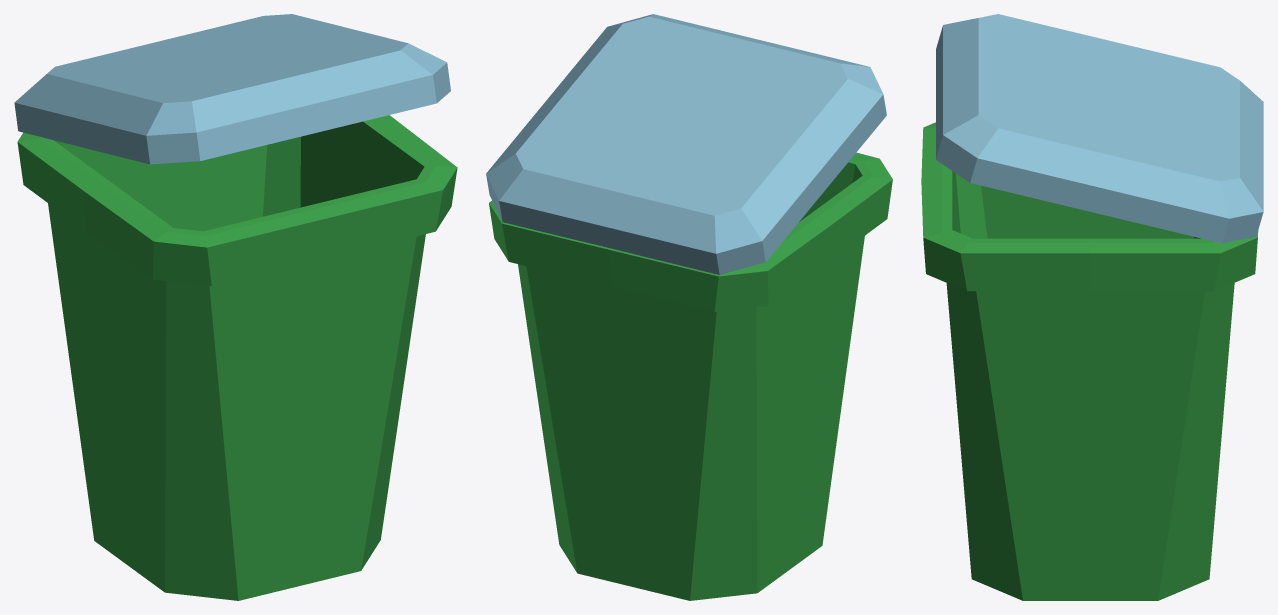
File: trash_bin.fbx
3 views of the same model, side by side, from view 1: azimuth 30°, elevation 25°; view 2: azimuth 150°, elevation 25°; view 3: azimuth 270°, elevation 25° (orthographic). The views are drawn at different scales.
Parts seen in each view (by area): view 1: Plane, Plane.001; view 2: Plane, Plane.001; view 3: Plane, Plane.001.
Part boxes in pixels (x1=…): Plane: x1=17, y1=115, x2=457, y2=600; Plane.001: x1=14, y1=14, x2=450, y2=164; Plane: x1=489, y1=152, x2=892, y2=600; Plane.001: x1=486, y1=14, x2=886, y2=274; Plane: x1=921, y1=122, x2=1258, y2=600; Plane.001: x1=936, y1=14, x2=1263, y2=243.
Bounding box in the file's own units: 114 × 180 × 115.
